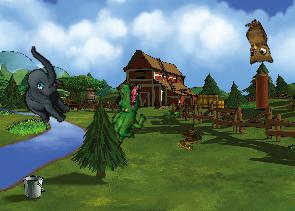crocodile: (104, 80, 151, 146)
elephant: (0, 45, 89, 131)
owl: (232, 17, 278, 71)
